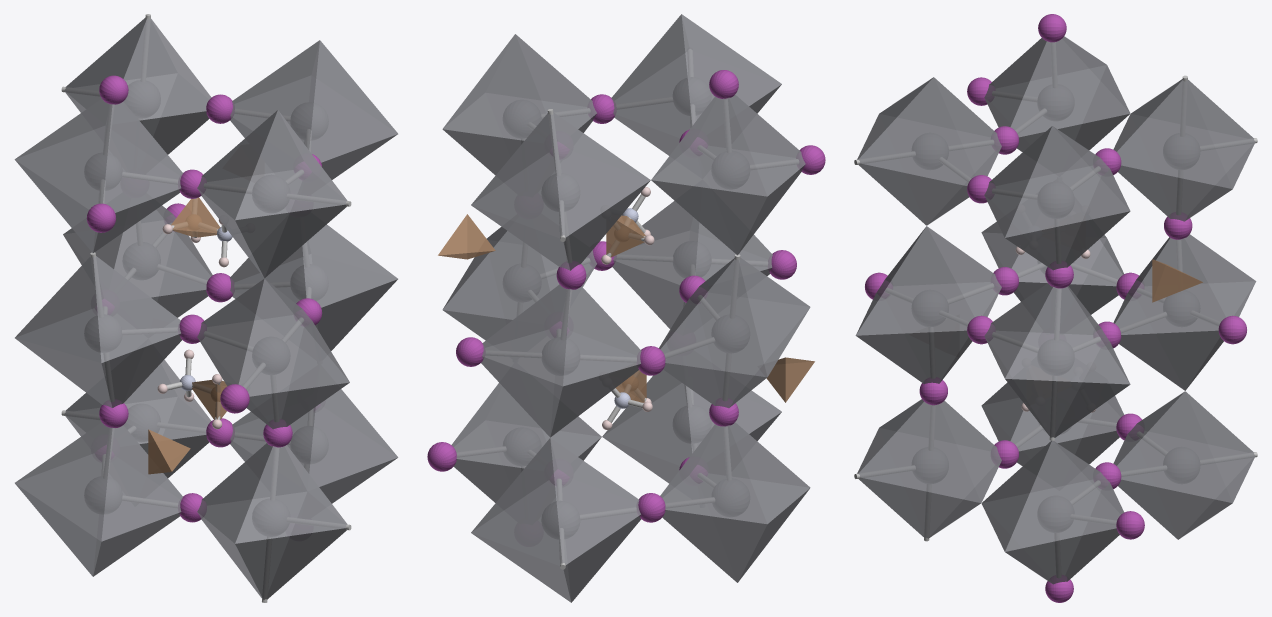
File: CH3NH3PbI3_wrl.fbx
The picture shows the model from 3 angles, left to right: view 1: azimuth 30°, elevation 25°; view 2: azimuth 150°, elevation 25°; view 3: azimuth 270°, elevation 25°; orthographic projection. The views are drawn at different scales.
Parts seen in each view (by area): view 1: Shape_IndexedFaceSet.059, Shape_IndexedFaceSet.091, Shape_IndexedFaceSet.107, Shape_IndexedFaceSet.031, Shape_IndexedFaceSet.023, Shape_IndexedFaceSet.035, Shape_IndexedFaceSet.019, Shape_IndexedFaceSet.027, Shape_IndexedFaceSet.083, Shape_IndexedFaceSet.051, Shape_IndexedFaceSet.067, Shape_IndexedFaceSet.043 (+102 smaller); view 2: Shape_IndexedFaceSet.070, Shape_IndexedFaceSet.087, Shape_IndexedFaceSet.022, Shape_IndexedFaceSet.103, Shape_IndexedFaceSet.030, Shape_IndexedFaceSet.101, Shape_IndexedFaceSet.085, Shape_IndexedFaceSet.038, Shape_IndexedFaceSet.093, Shape_IndexedFaceSet.078, Shape_IndexedFaceSet.053, Shape_IndexedFaceSet.096 (+104 smaller); view 3: Shape_IndexedFaceSet.074, Shape_IndexedFaceSet.057, Shape_IndexedFaceSet.034, Shape_IndexedFaceSet.042, Shape_IndexedFaceSet.097, Shape_IndexedFaceSet.089, Shape_IndexedFaceSet.081, Shape_IndexedFaceSet.105, Shape_IndexedFaceSet.018, Shape_IndexedFaceSet.049, Shape_IndexedFaceSet.110, Shape_IndexedFaceSet.094 (+98 smaller).
Boxes of the visible parts, x1=… form: Shape_IndexedFaceSet.059: x1=238, y1=278, x2=349, y2=396; Shape_IndexedFaceSet.091: x1=235, y1=110, x2=347, y2=220; Shape_IndexedFaceSet.107: x1=235, y1=445, x2=347, y2=543; Shape_IndexedFaceSet.031: x1=15, y1=422, x2=112, y2=541; Shape_IndexedFaceSet.023: x1=15, y1=99, x2=112, y2=209; Shape_IndexedFaceSet.035: x1=309, y1=40, x2=397, y2=162; Shape_IndexedFaceSet.019: x1=103, y1=101, x2=183, y2=212; Shape_IndexedFaceSet.027: x1=101, y1=425, x2=182, y2=541; Shape_IndexedFaceSet.083: x1=123, y1=18, x2=211, y2=120; Shape_IndexedFaceSet.051: x1=114, y1=209, x2=210, y2=297; Shape_IndexedFaceSet.067: x1=93, y1=256, x2=180, y2=362; Shape_IndexedFaceSet.043: x1=309, y1=389, x2=398, y2=486; Shape_IndexedFaceSet.070: x1=660, y1=259, x2=767, y2=377; Shape_IndexedFaceSet.087: x1=550, y1=112, x2=650, y2=237; Shape_IndexedFaceSet.022: x1=651, y1=96, x2=767, y2=196; Shape_IndexedFaceSet.103: x1=550, y1=438, x2=640, y2=564; Shape_IndexedFaceSet.030: x1=660, y1=424, x2=767, y2=523; Shape_IndexedFaceSet.101: x1=471, y1=438, x2=562, y2=565; Shape_IndexedFaceSet.085: x1=471, y1=113, x2=562, y2=238; Shape_IndexedFaceSet.038: x1=442, y1=34, x2=546, y2=140; Shape_IndexedFaceSet.093: x1=611, y1=14, x2=692, y2=137; Shape_IndexedFaceSet.078: x1=442, y1=231, x2=550, y2=319; Shape_IndexedFaceSet.053: x1=482, y1=284, x2=570, y2=386; Shape_IndexedFaceSet.096: x1=472, y1=481, x2=570, y2=601; Shape_IndexedFaceSet.074: x1=1005, y1=287, x2=1130, y2=384; Shape_IndexedFaceSet.057: x1=856, y1=226, x2=974, y2=335; Shape_IndexedFaceSet.034: x1=1005, y1=126, x2=1129, y2=237; Shape_IndexedFaceSet.042: x1=1005, y1=440, x2=1120, y2=551; Shape_IndexedFaceSet.097: x1=1117, y1=391, x2=1232, y2=503; Shape_IndexedFaceSet.089: x1=858, y1=77, x2=975, y2=185; Shape_IndexedFaceSet.081: x1=1117, y1=80, x2=1232, y2=189; Shape_IndexedFaceSet.105: x1=858, y1=401, x2=980, y2=502; Shape_IndexedFaceSet.018: x1=1010, y1=39, x2=1129, y2=137; Shape_IndexedFaceSet.049: x1=1115, y1=238, x2=1225, y2=334; Shape_IndexedFaceSet.110: x1=880, y1=428, x2=993, y2=534; Shape_IndexedFaceSet.094: x1=880, y1=114, x2=993, y2=223.
Bounding box in the file's own units: 1383 × 2042 × 1503.
